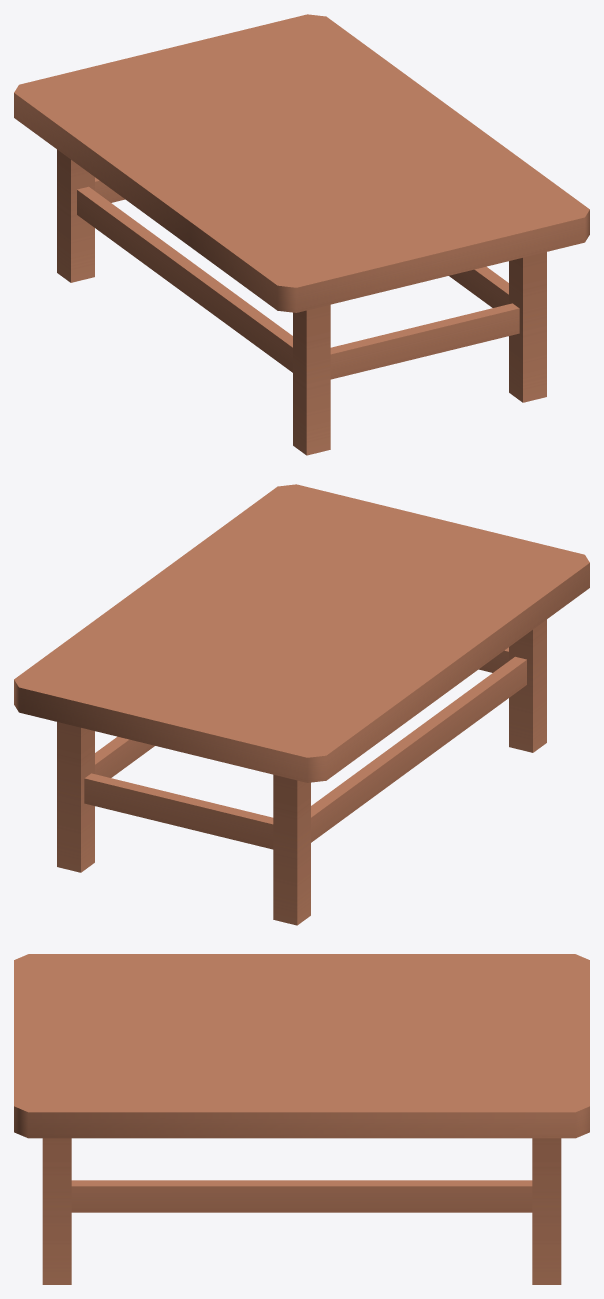
Rendered from stall.fbx.
3 views of the same model, one above another, from view 1: azimuth 30°, elevation 25°; view 2: azimuth 150°, elevation 25°; view 3: azimuth 270°, elevation 25° (orthographic). The views are drawn at different scales.
Parts seen in each view (by area): view 1: stall; view 2: stall; view 3: stall.
Part boxes in pixels (x1=…): stall: x1=14, y1=14, x2=589, y2=455; stall: x1=14, y1=484, x2=589, y2=925; stall: x1=14, y1=954, x2=589, y2=1284.
Bounding box in the file's own units: 65 × 36.55 × 100.
1 material, 1 textured.
